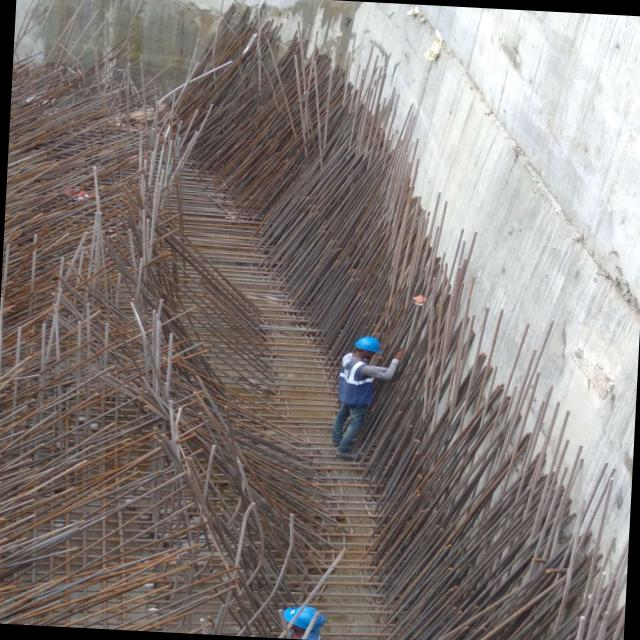cement: (348, 1, 640, 488), (515, 232, 519, 237)
